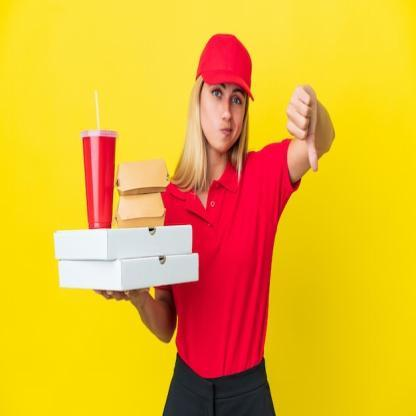thumb_down: (283, 78, 322, 175)
